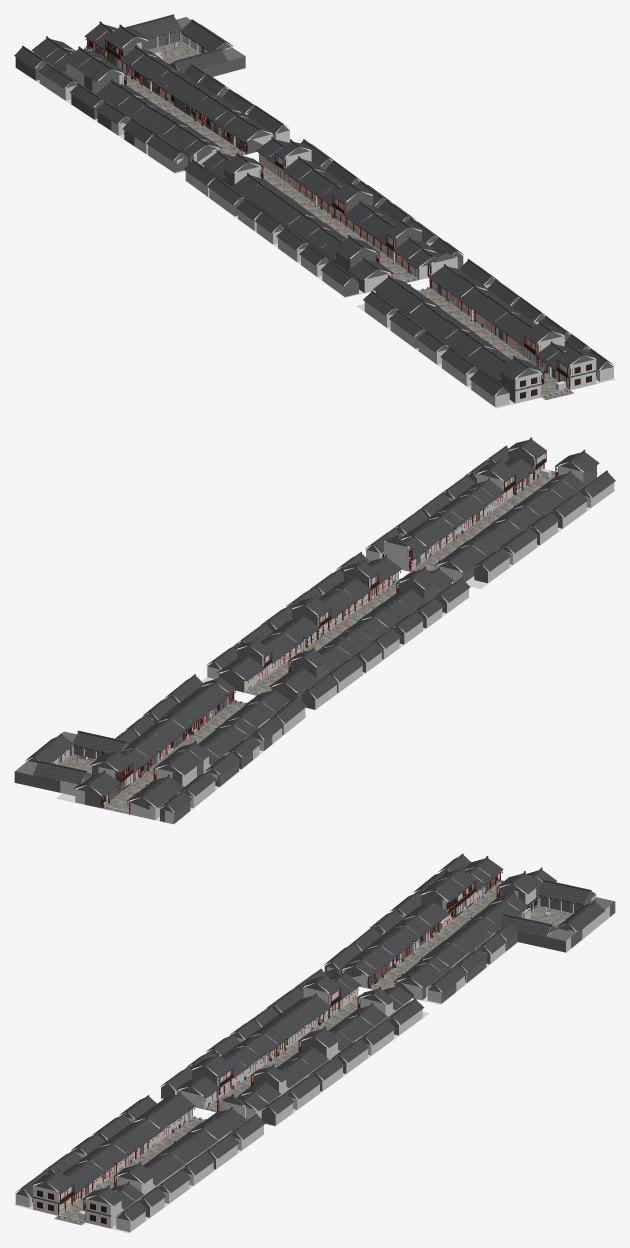
File: nanluo.glb
The picture shows the model from 3 angles, top to bottom: view 1: azimuth 30°, elevation 25°; view 2: azimuth 150°, elevation 25°; view 3: azimuth 330°, elevation 25°; orthographic projection. The views are drawn at different scales.
Visible parts, largest first — view 1: Lane, Massing, COL_lot26, COL_lot0; view 2: Lane, Massing, COL_lot38; view 3: Lane, Massing, COL_lot26, COL_lot0.
Part boxes in pixels (x1=…): Lane: x1=15, y1=14, x2=613, y2=402; Massing: x1=14, y1=25, x2=614, y2=403; COL_lot26: x1=559, y1=355, x2=596, y2=389; COL_lot0: x1=514, y1=368, x2=541, y2=403; Lane: x1=14, y1=437, x2=607, y2=823; Massing: x1=14, y1=440, x2=615, y2=821; COL_lot38: x1=384, y1=540, x2=410, y2=571; Lane: x1=17, y1=853, x2=615, y2=1225; Massing: x1=16, y1=855, x2=615, y2=1221; COL_lot26: x1=85, y1=1195, x2=121, y2=1228; COL_lot0: x1=33, y1=1182, x2=71, y2=1215.
Bounding box in the file's own units: 46.57 × 8.84 × 220.
57 materials, 22 textured.
